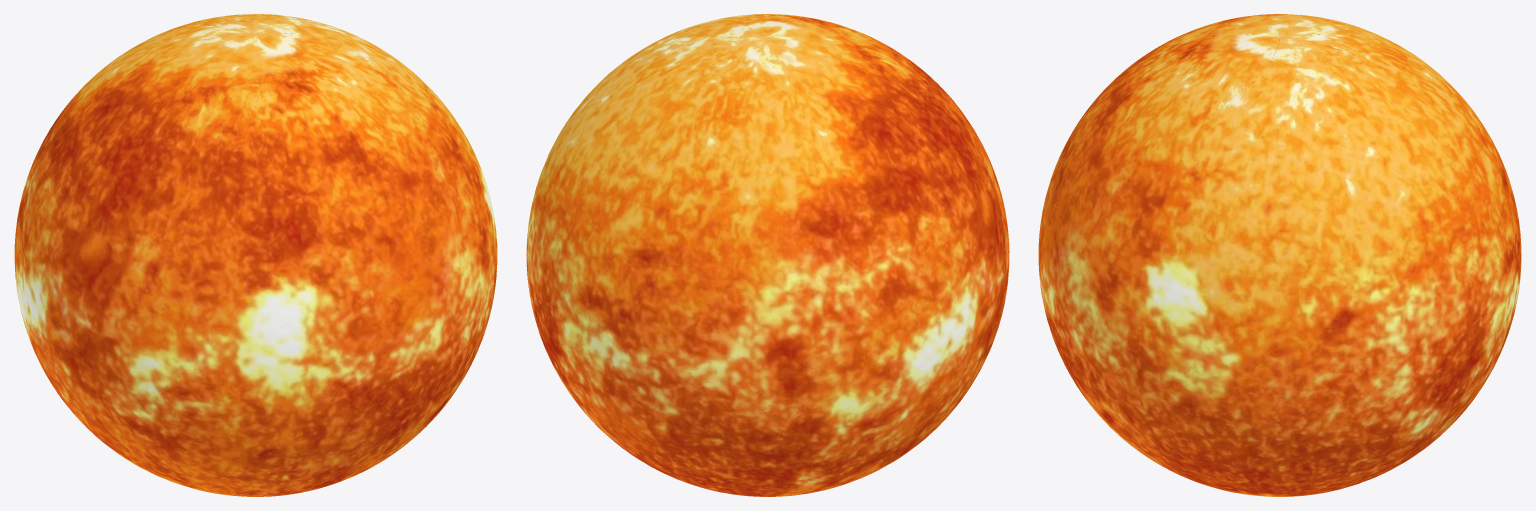
File: sun.sky.glb
The picture shows the model from 3 angles, left to right: view 1: azimuth 30°, elevation 25°; view 2: azimuth 150°, elevation 25°; view 3: azimuth 270°, elevation 25°; orthographic projection.
Parts seen in each view (by area): view 1: Object_6, Object_5, Object_9, Object_7, Object_4, Object_8, Object_3, Object_2; view 2: Object_5, Object_4, Object_6, Object_3, Object_7, Object_2, Object_9; view 3: Object_9, Object_2, Object_3, Object_4, Object_6, Object_7, Object_8, Object_5.
Boxes of the visible parts, x1,y1,x2,y2 form: Object_6: (27, 26, 435, 281); Object_5: (14, 15, 436, 403); Object_9: (255, 30, 497, 437); Object_7: (117, 33, 438, 489); Object_4: (22, 14, 436, 474); Object_8: (198, 33, 469, 496); Object_3: (93, 14, 437, 489); Object_2: (196, 21, 438, 489); Object_5: (603, 21, 1009, 402); Object_4: (539, 21, 1000, 475); Object_6: (711, 21, 996, 283); Object_3: (526, 21, 935, 496); Object_7: (707, 14, 908, 128); Object_2: (539, 21, 767, 496); Object_9: (591, 22, 808, 283); Object_9: (1038, 36, 1279, 436); Object_2: (1039, 37, 1375, 496); Object_3: (1039, 37, 1462, 492); Object_4: (1039, 36, 1515, 448); Object_6: (1051, 21, 1467, 215); Object_7: (1038, 14, 1344, 253); Object_8: (1038, 40, 1279, 496); Object_5: (1038, 34, 1521, 324).
Bounding box in the file's own units: 2000 × 2000 × 2000.
1 material, 1 textured.
